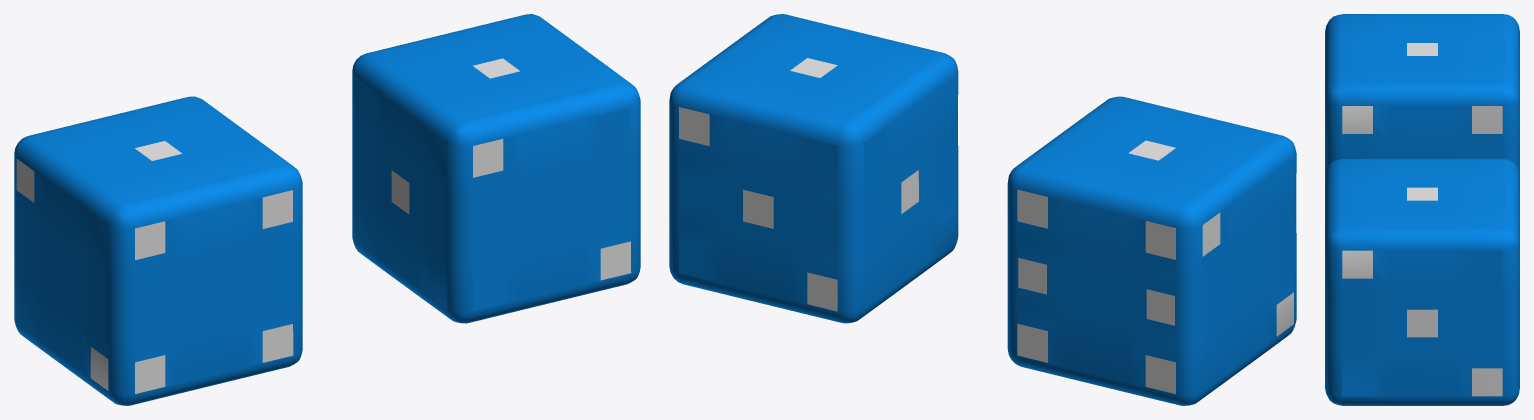
The model's file is ShledDice.fbx.
3 views of the same model, side by side, from view 1: azimuth 30°, elevation 25°; view 2: azimuth 150°, elevation 25°; view 3: azimuth 270°, elevation 25° (orthographic). The views are drawn at different scales.
Visible parts, largest first — view 1: ShledDice, ShledTurnDice; view 2: ShledDice, ShledTurnDice; view 3: ShledTurnDice, ShledDice.
Boxes of the visible parts, x1,y1,x2,y2 form: ShledDice: [14, 96, 302, 405]; ShledTurnDice: [352, 14, 640, 323]; ShledDice: [1007, 96, 1296, 405]; ShledTurnDice: [669, 14, 958, 323]; ShledTurnDice: [1325, 158, 1519, 405]; ShledDice: [1325, 14, 1519, 175].
Bounding box in the file's own units: 552 × 200 × 200.
